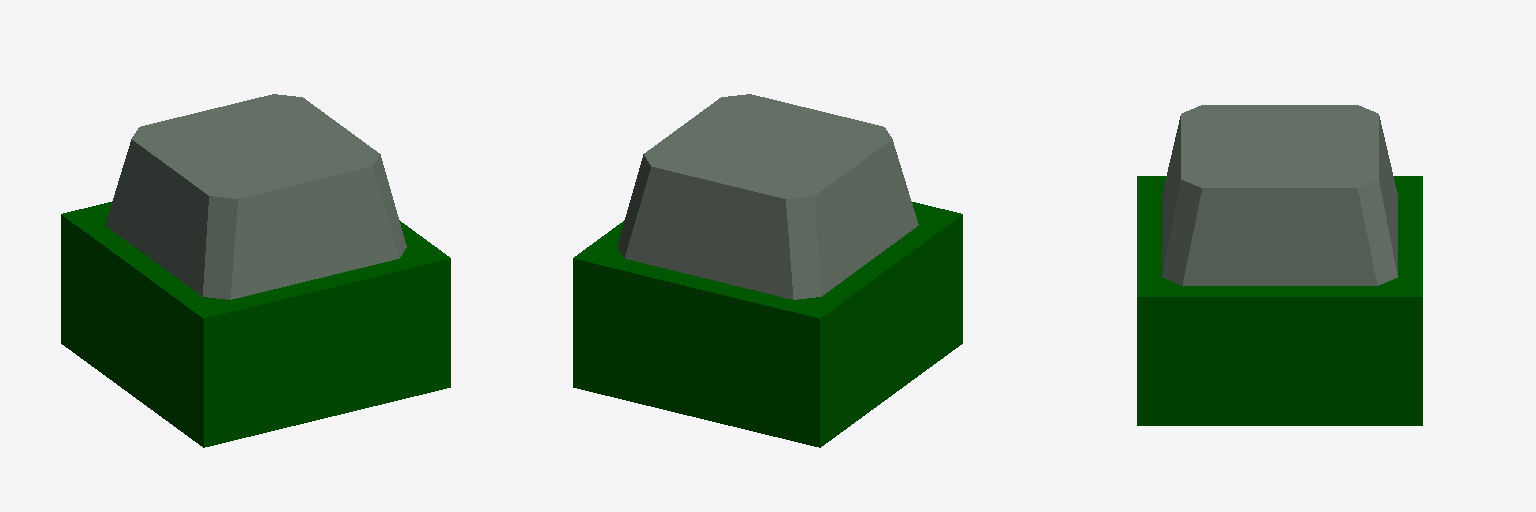
File: motherboard.obj
The picture shows the model from 3 angles: view 1: azimuth 30°, elevation 25°; view 2: azimuth 150°, elevation 25°; view 3: azimuth 270°, elevation 25°; orthographic projection.
Parts seen in each view (by area): view 1: Cube.001; view 2: Cube.001; view 3: Cube.001.
Boxes of the visible parts, box(x1,y1,x2,y2) form: Cube.001: box(61, 94, 450, 447); Cube.001: box(573, 94, 962, 447); Cube.001: box(1137, 105, 1422, 425).
Size of the model in its own units: 1 by 0.8438 by 1.